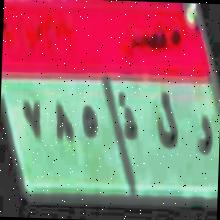5: (79, 98, 98, 146)
7: (20, 92, 44, 149)
8: (51, 100, 76, 152)
laam: (152, 79, 180, 157)
raa: (193, 112, 214, 160)
zaal: (114, 87, 138, 149)
